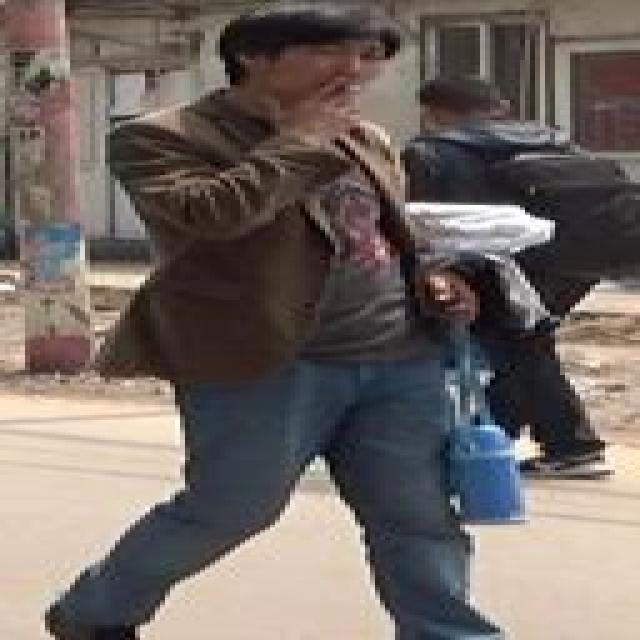adult: (72, 1, 526, 640), (399, 71, 634, 477)
